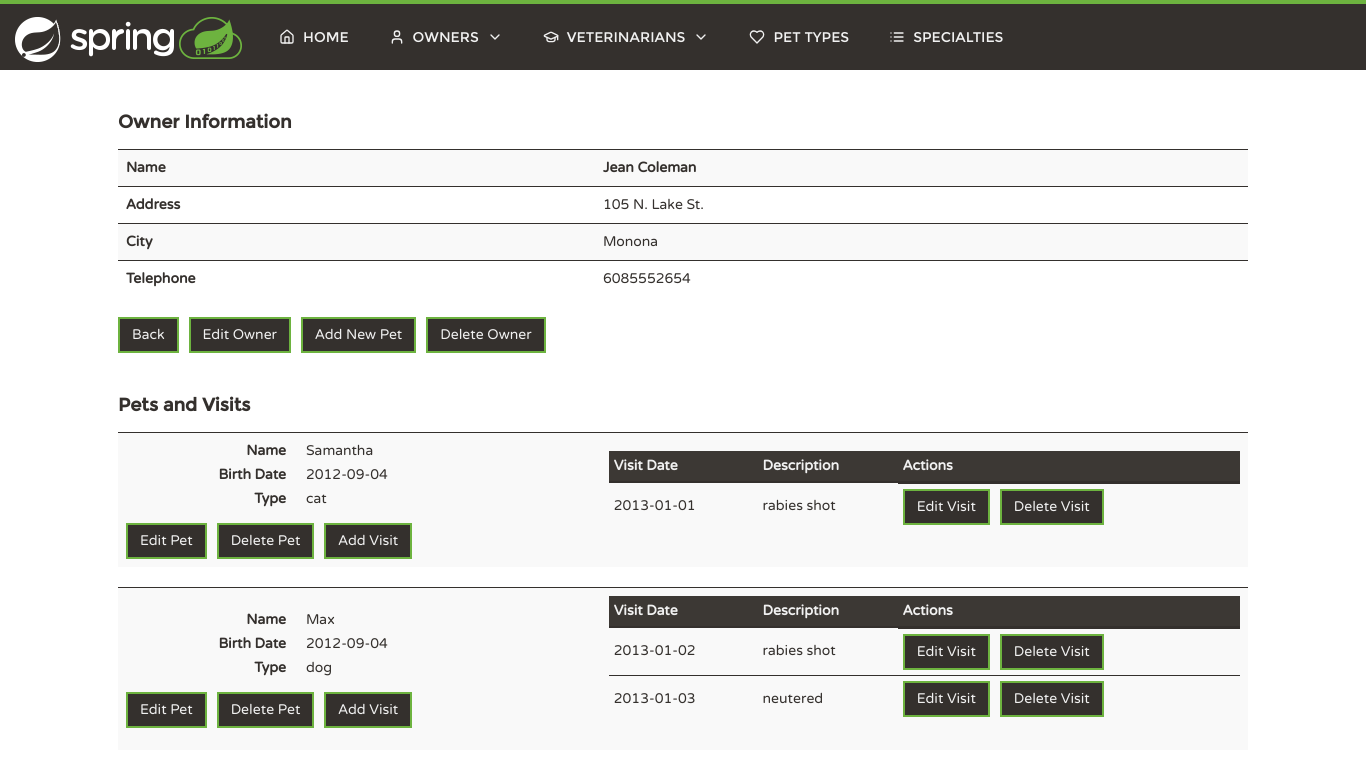
OwnerDetailPage › deletes a visit and refetches the owner
Expected: the text "neutered" is shown, left=758, top=675, right=898, bottom=722
What coordinates should you click on to do the following:
click the button "Delete Visit" in the row of "2013-01-03"
I would click on:
 (1052, 699)
Its box is left=1000, top=681, right=1104, bottom=717.
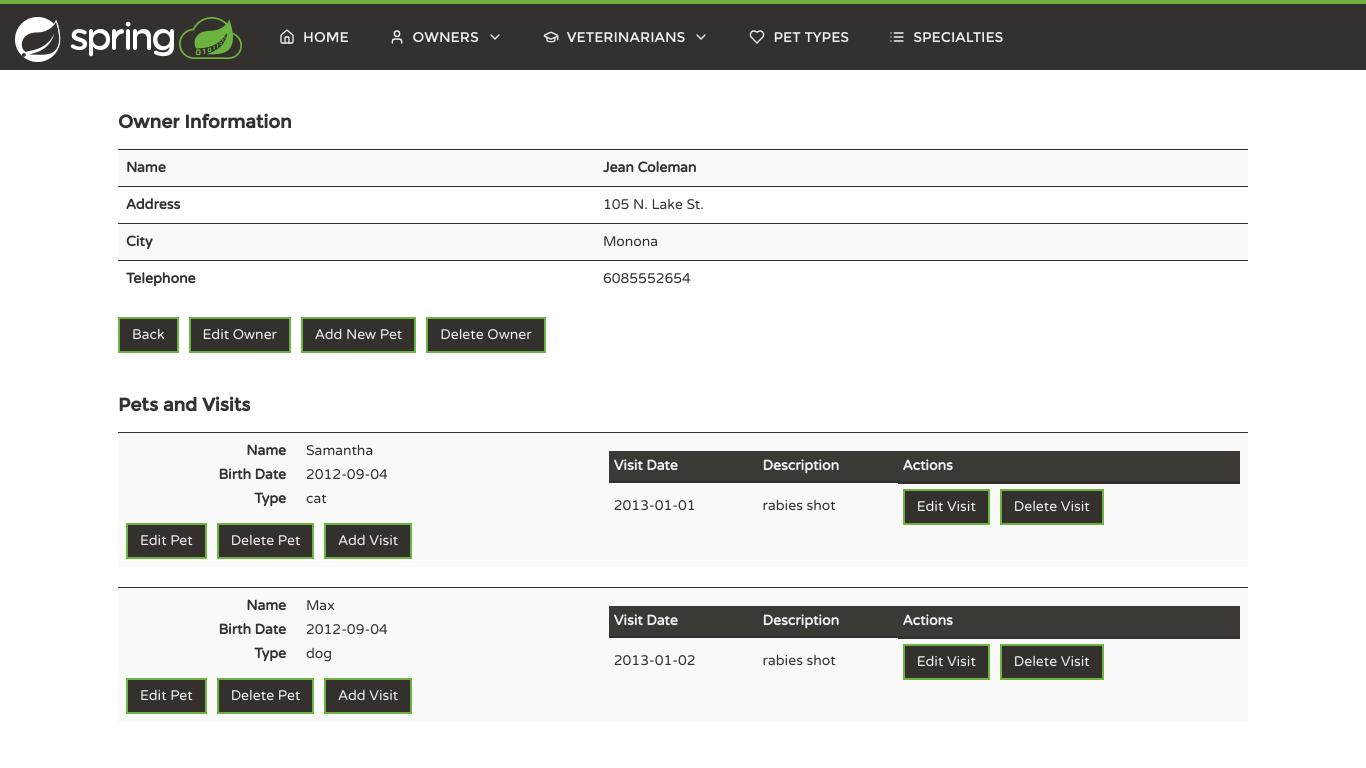
Result: the text "neutered" is gone
